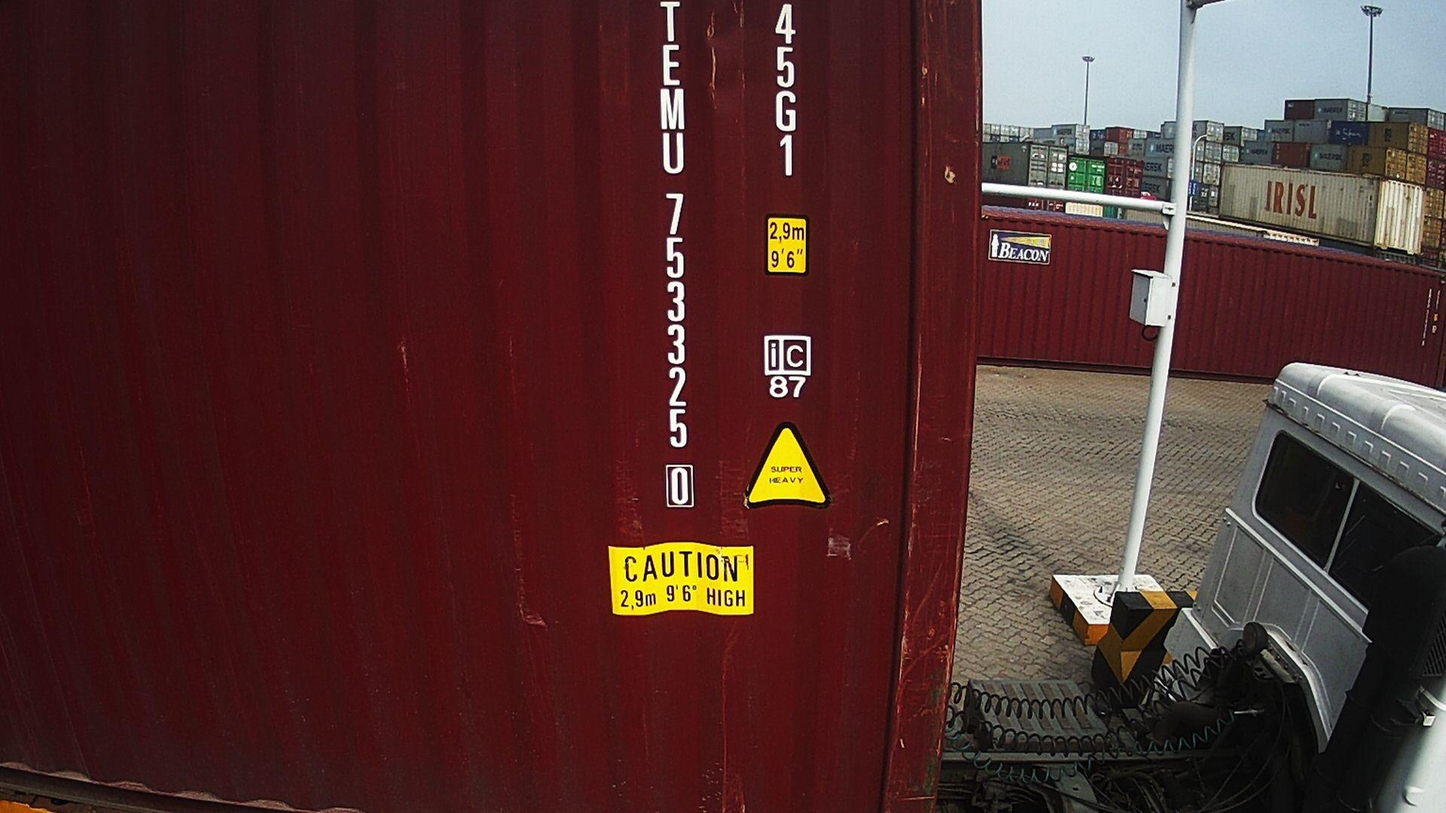container-numbers: (651, 0, 698, 513), (769, 0, 804, 182)
